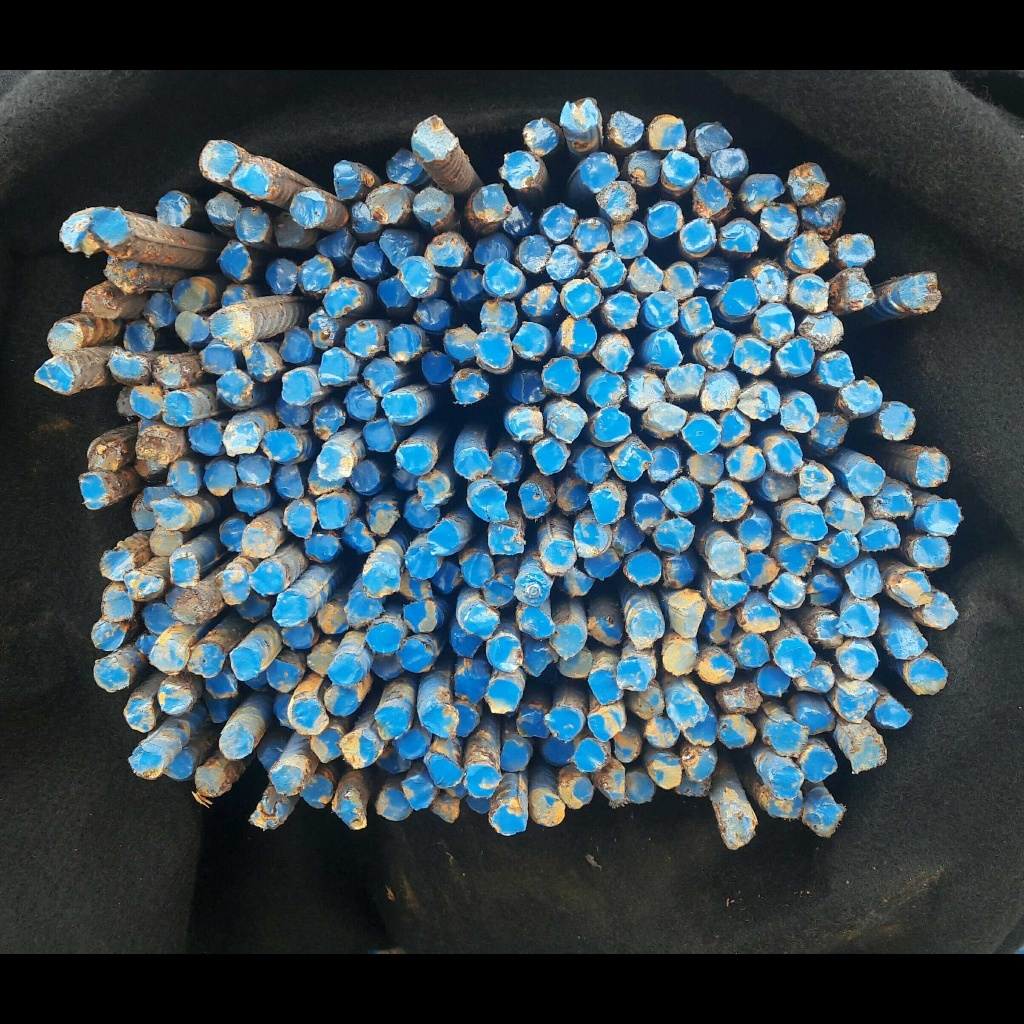dipstick: (58, 206, 132, 257), (411, 117, 459, 161), (666, 589, 707, 639), (207, 306, 254, 346), (799, 311, 843, 353), (545, 400, 587, 443), (232, 158, 275, 199), (136, 423, 180, 463), (613, 437, 653, 481), (200, 138, 240, 181), (103, 254, 147, 293), (367, 184, 408, 224), (561, 279, 602, 319), (775, 636, 815, 677), (900, 271, 941, 311), (380, 230, 421, 269), (242, 342, 281, 382), (469, 483, 509, 522), (541, 355, 580, 395), (473, 183, 512, 223), (580, 152, 619, 192), (744, 174, 784, 213), (501, 150, 542, 188), (595, 332, 633, 373), (597, 181, 638, 219), (787, 162, 825, 203), (738, 383, 780, 420), (692, 178, 731, 217), (589, 484, 627, 524), (700, 371, 740, 409), (837, 685, 877, 723), (756, 303, 794, 343), (398, 256, 435, 297), (559, 314, 596, 355), (892, 569, 933, 606), (324, 278, 362, 317), (780, 393, 818, 432), (719, 278, 758, 316), (148, 638, 188, 675), (842, 378, 882, 415), (752, 262, 789, 302), (791, 273, 828, 313), (839, 268, 875, 309), (554, 564, 597, 598), (701, 327, 735, 370), (720, 812, 758, 850), (361, 561, 400, 598), (520, 637, 557, 676), (768, 720, 807, 757), (790, 232, 829, 269), (412, 188, 452, 224), (315, 229, 355, 265), (654, 517, 694, 553), (707, 541, 747, 577), (35, 359, 76, 394), (632, 491, 666, 533), (216, 371, 253, 409), (451, 368, 488, 406), (483, 260, 521, 297), (574, 520, 611, 558), (825, 493, 862, 531), (847, 460, 885, 497), (427, 231, 466, 267), (315, 443, 354, 479), (290, 699, 329, 735), (541, 203, 577, 242), (592, 407, 631, 443), (662, 477, 701, 513), (879, 402, 915, 441), (886, 624, 927, 658), (776, 541, 817, 575), (364, 500, 401, 537), (426, 751, 463, 788), (522, 117, 559, 154), (628, 610, 665, 647), (611, 220, 648, 257), (801, 746, 838, 783), (761, 202, 798, 239), (662, 150, 699, 187), (289, 192, 327, 228), (352, 241, 388, 279), (386, 148, 424, 184), (521, 282, 559, 318), (844, 563, 882, 599), (544, 706, 583, 741), (741, 598, 780, 633), (874, 485, 913, 520), (110, 350, 150, 384), (363, 360, 400, 396), (312, 403, 348, 440), (487, 637, 524, 673), (509, 367, 546, 403), (588, 372, 625, 408), (923, 590, 959, 627), (733, 339, 770, 375), (171, 277, 209, 312), (272, 591, 310, 626), (397, 636, 435, 671), (575, 446, 610, 484), (662, 262, 697, 300), (727, 447, 765, 482), (806, 803, 844, 838), (848, 735, 886, 770), (909, 659, 947, 694), (837, 233, 875, 268), (610, 517, 644, 556), (782, 509, 826, 539), (719, 218, 759, 251), (796, 702, 837, 734), (83, 286, 125, 317), (205, 191, 241, 227), (340, 731, 376, 767), (514, 570, 550, 606), (513, 322, 549, 358), (546, 244, 582, 280), (557, 773, 593, 809), (663, 552, 699, 588), (681, 219, 717, 255), (822, 531, 858, 567), (777, 338, 813, 374), (695, 123, 731, 159), (283, 500, 318, 537), (588, 611, 625, 646), (923, 499, 960, 534), (299, 254, 333, 292), (345, 322, 383, 356), (318, 347, 352, 385), (560, 97, 598, 131), (628, 686, 666, 720), (718, 714, 756, 748), (838, 646, 876, 680), (219, 241, 252, 280), (373, 707, 412, 740), (374, 788, 414, 820), (720, 682, 761, 713), (645, 402, 686, 433), (404, 493, 440, 528), (485, 678, 521, 713), (541, 539, 576, 575), (476, 332, 512, 367), (480, 298, 516, 333), (626, 551, 662, 586), (707, 580, 749, 610), (629, 373, 664, 409), (604, 292, 639, 328), (769, 573, 805, 608), (817, 351, 853, 386), (188, 643, 225, 677), (584, 546, 621, 580), (681, 746, 718, 780), (648, 201, 682, 238), (647, 330, 681, 367), (683, 419, 720, 453), (875, 693, 912, 727), (915, 450, 949, 487), (710, 148, 747, 182), (649, 115, 686, 149), (462, 550, 495, 588), (697, 651, 735, 684), (198, 343, 237, 375), (398, 443, 437, 475), (454, 448, 493, 480), (681, 297, 713, 336), (839, 604, 878, 636), (124, 571, 165, 601), (584, 709, 625, 739), (711, 486, 746, 521), (768, 438, 803, 473), (188, 419, 222, 455), (267, 657, 301, 693), (465, 603, 499, 639), (519, 482, 553, 518), (616, 657, 652, 691), (416, 468, 449, 505), (158, 682, 195, 715), (591, 250, 624, 287), (913, 535, 950, 568), (327, 653, 365, 685), (647, 445, 679, 483), (413, 300, 452, 331), (261, 430, 300, 461), (474, 234, 513, 265), (860, 520, 900, 550), (156, 192, 190, 227), (216, 569, 250, 604), (423, 703, 457, 738), (556, 477, 590, 512), (589, 669, 624, 703), (742, 551, 777, 585), (629, 257, 663, 292), (644, 291, 679, 325), (453, 668, 487, 703), (608, 112, 643, 146), (223, 421, 259, 454), (315, 493, 348, 529), (93, 658, 129, 691), (508, 406, 544, 439), (647, 756, 683, 789), (735, 634, 771, 667), (693, 256, 729, 289), (275, 395, 312, 427), (403, 601, 440, 633), (488, 523, 525, 555), (811, 412, 848, 444), (519, 235, 550, 273), (642, 716, 680, 747), (86, 440, 126, 469), (236, 207, 270, 241), (142, 293, 176, 327), (310, 728, 344, 762), (444, 326, 478, 360), (388, 326, 421, 361), (249, 561, 284, 594), (171, 591, 206, 624), (124, 697, 157, 732), (129, 747, 164, 780), (426, 521, 459, 556), (533, 440, 568, 473), (576, 216, 609, 251), (662, 643, 697, 676), (267, 258, 299, 294), (345, 384, 377, 420), (153, 354, 189, 386), (47, 321, 83, 353), (131, 384, 167, 416), (169, 460, 201, 496), (154, 498, 190, 530), (91, 618, 127, 650), (687, 452, 723, 484), (800, 466, 832, 502), (380, 392, 418, 422), (308, 309, 337, 348), (242, 524, 276, 557), (405, 546, 439, 579), (532, 792, 565, 826), (575, 739, 608, 773), (274, 211, 306, 246), (362, 420, 397, 452), (204, 461, 236, 496), (219, 726, 254, 758), (324, 685, 359, 717), (392, 727, 427, 759), (519, 605, 554, 637), (281, 327, 312, 363), (79, 474, 110, 510), (541, 734, 577, 765), (667, 364, 704, 394), (123, 320, 156, 353), (229, 647, 262, 680), (466, 765, 499, 798), (551, 625, 584, 658), (101, 587, 135, 619), (174, 312, 210, 342), (490, 804, 526, 834), (557, 648, 593, 678), (232, 482, 269, 511), (797, 663, 834, 692), (402, 776, 434, 809), (431, 562, 464, 594), (237, 454, 271, 485), (350, 459, 381, 493), (195, 766, 229, 797), (452, 267, 483, 301), (517, 706, 551, 737), (738, 519, 772, 550), (770, 767, 804, 798), (627, 151, 658, 185), (251, 798, 286, 828), (145, 602, 177, 634), (274, 464, 305, 497), (612, 729, 643, 762), (704, 611, 735, 644), (163, 392, 193, 426), (271, 765, 305, 795), (490, 450, 520, 484), (757, 665, 791, 695), (367, 621, 402, 650), (484, 573, 513, 608), (721, 410, 750, 445), (334, 161, 361, 198), (283, 372, 314, 404), (624, 771, 656, 802), (808, 574, 840, 605), (501, 738, 531, 771), (423, 350, 453, 383), (503, 203, 533, 236), (304, 532, 339, 560), (768, 791, 803, 819), (303, 775, 333, 807), (317, 603, 349, 633), (378, 278, 411, 307), (170, 553, 199, 586), (101, 551, 133, 580), (150, 527, 183, 555), (131, 495, 157, 530), (337, 798, 367, 828), (814, 616, 843, 647), (219, 518, 246, 551), (166, 748, 194, 778), (603, 766, 624, 805), (206, 671, 236, 698), (455, 702, 478, 737), (431, 798, 459, 823), (221, 284, 252, 305)
